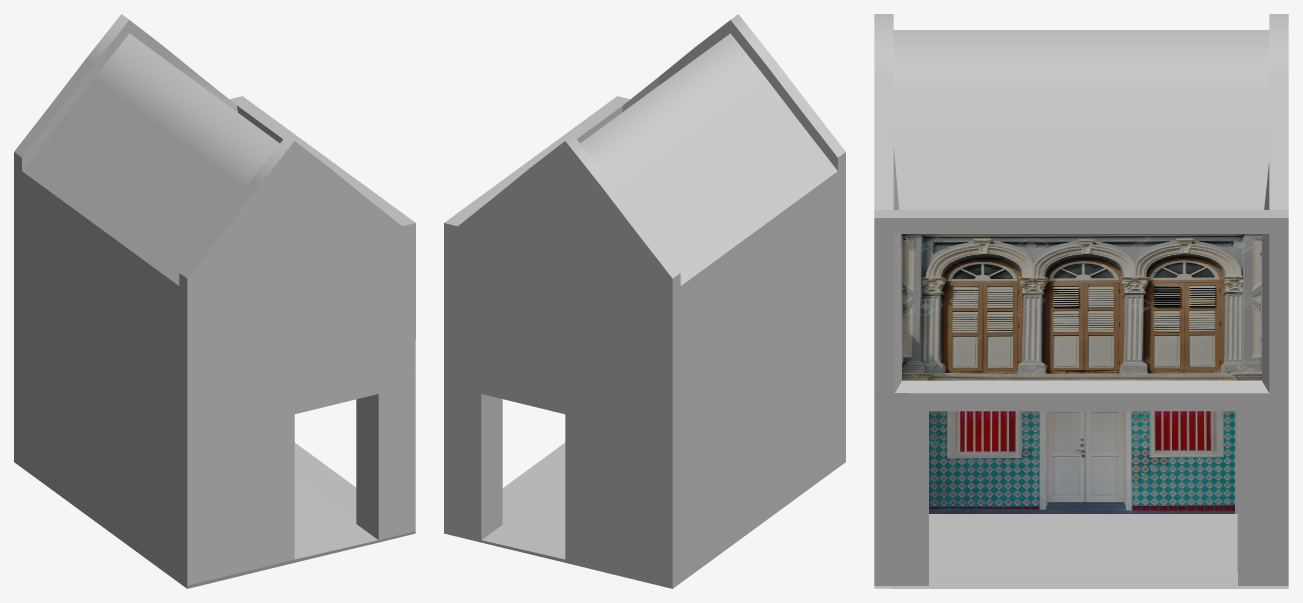
File: shophousebeige.fbx
3 renders of one model, left to right at view 1: azimuth 30°, elevation 25°; view 2: azimuth 150°, elevation 25°; view 3: azimuth 270°, elevation 25°, orthographic. The views are drawn at different scales.
Visible parts, largest first — view 1: Shophouse13; view 2: Shophouse13; view 3: Shophouse13.
Part boxes in pixels (<box>): Shophouse13: <box>14,14,415,588</box>; Shophouse13: <box>444,14,845,588</box>; Shophouse13: <box>874,14,1288,588</box>.
Bounding box in the file's own units: 408 × 721 × 536.
